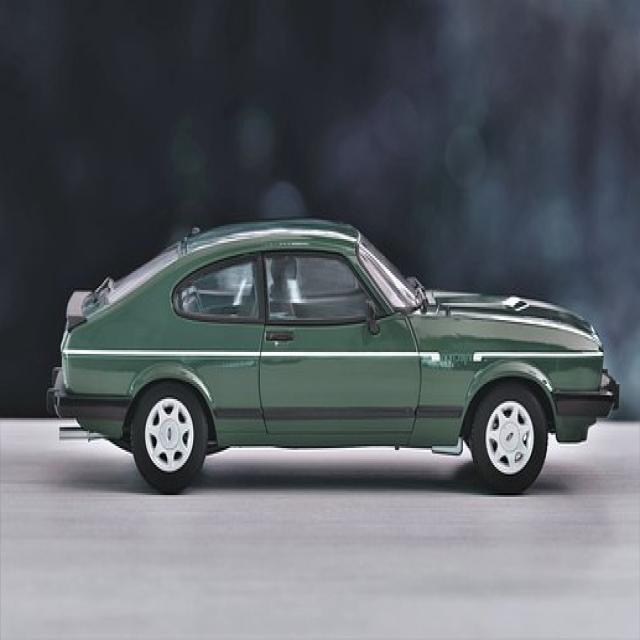Car: (47, 217, 621, 495)
